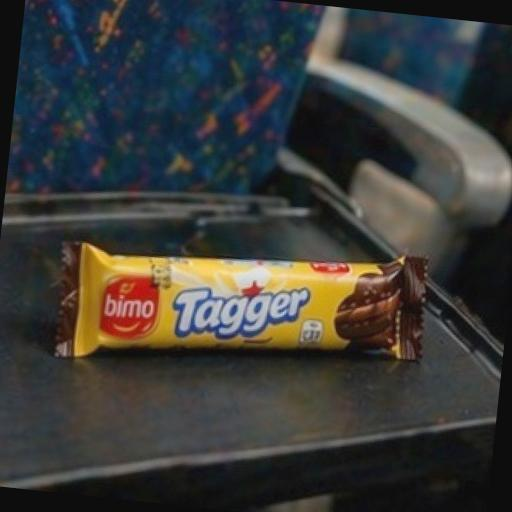tagger: (32, 118, 466, 484)
